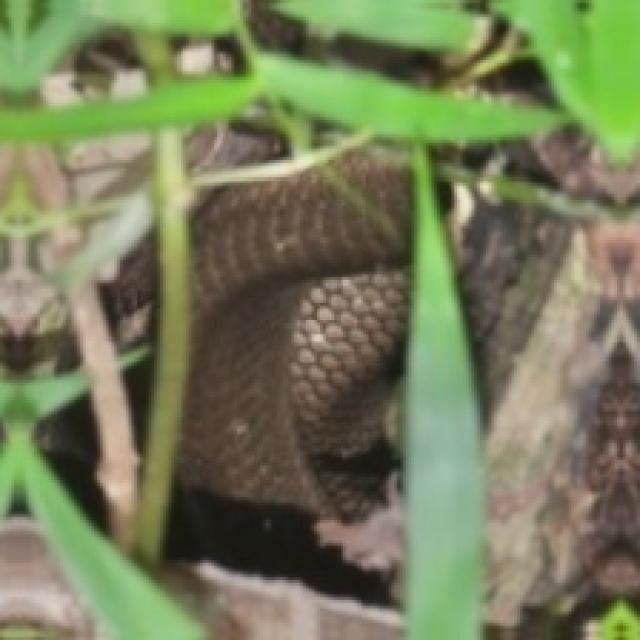king cobra: (406, 140, 480, 637), (140, 277, 189, 560), (177, 220, 186, 254)
